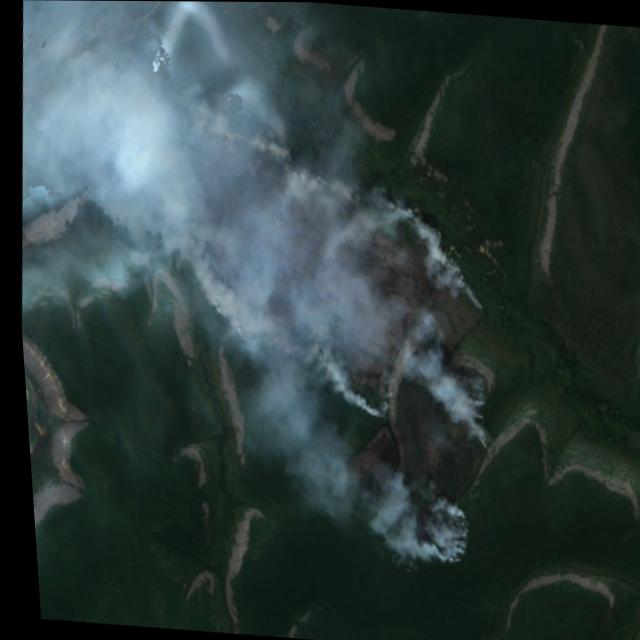fire: (118, 109, 511, 590)
